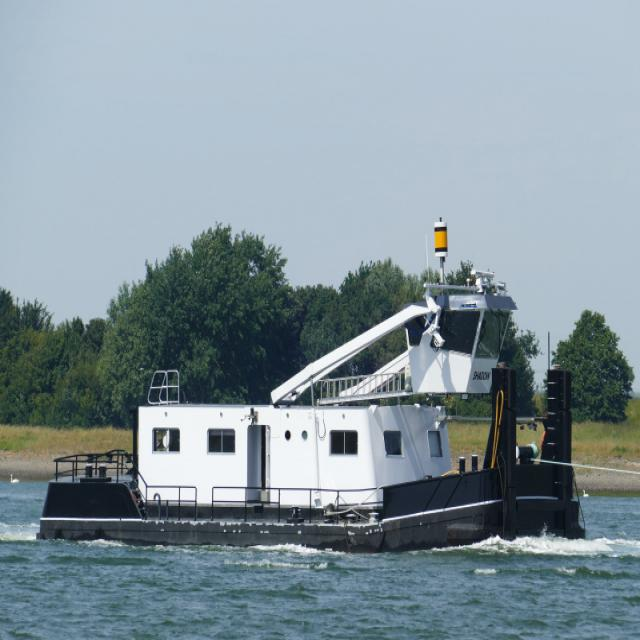tugboat: (33, 268, 592, 571)
